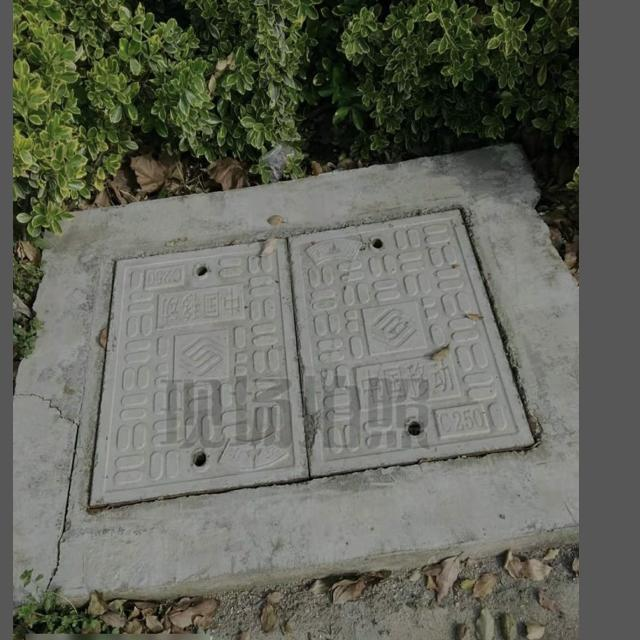good: (72, 202, 538, 510)
